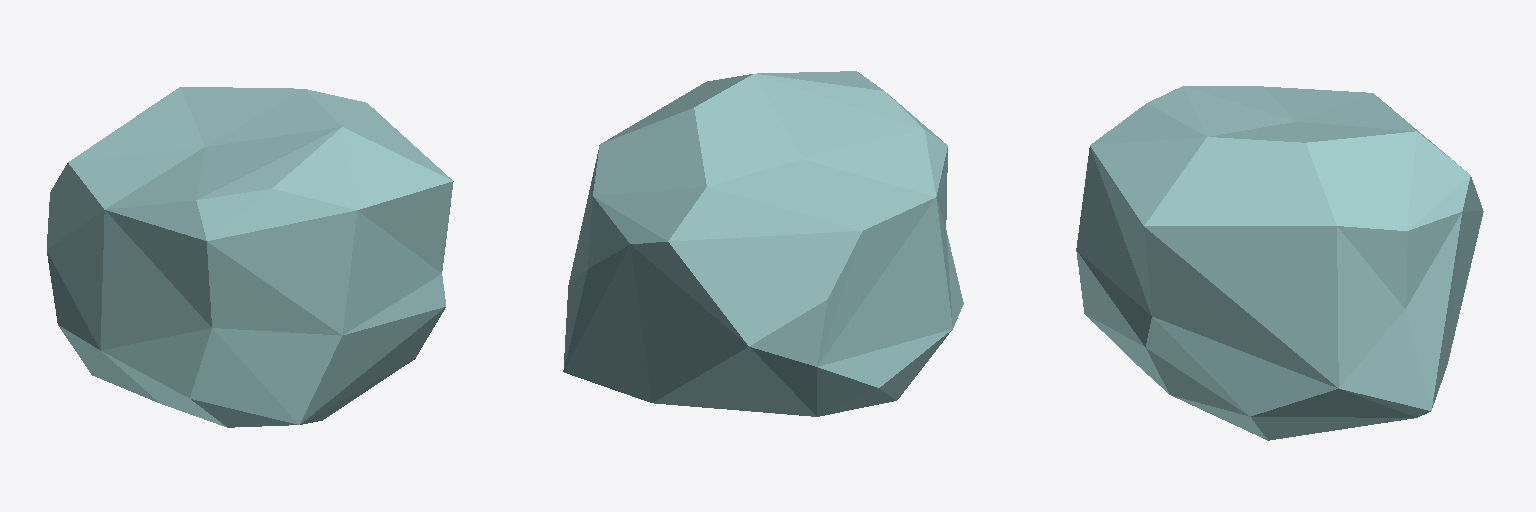
The model's file is rock.obj.
3 views of the same model, side by side, from view 1: azimuth 30°, elevation 25°; view 2: azimuth 150°, elevation 25°; view 3: azimuth 270°, elevation 25° (orthographic).
Visible parts, largest first — view 1: Cube_Cube.001; view 2: Cube_Cube.001; view 3: Cube_Cube.001.
Part boxes in pixels (x1,y1,x2,y2): Cube_Cube.001: (47, 87, 453, 427); Cube_Cube.001: (563, 71, 963, 416); Cube_Cube.001: (1076, 86, 1483, 440).
Size of the model in its own units: 4.17 by 3.36 by 4.32.